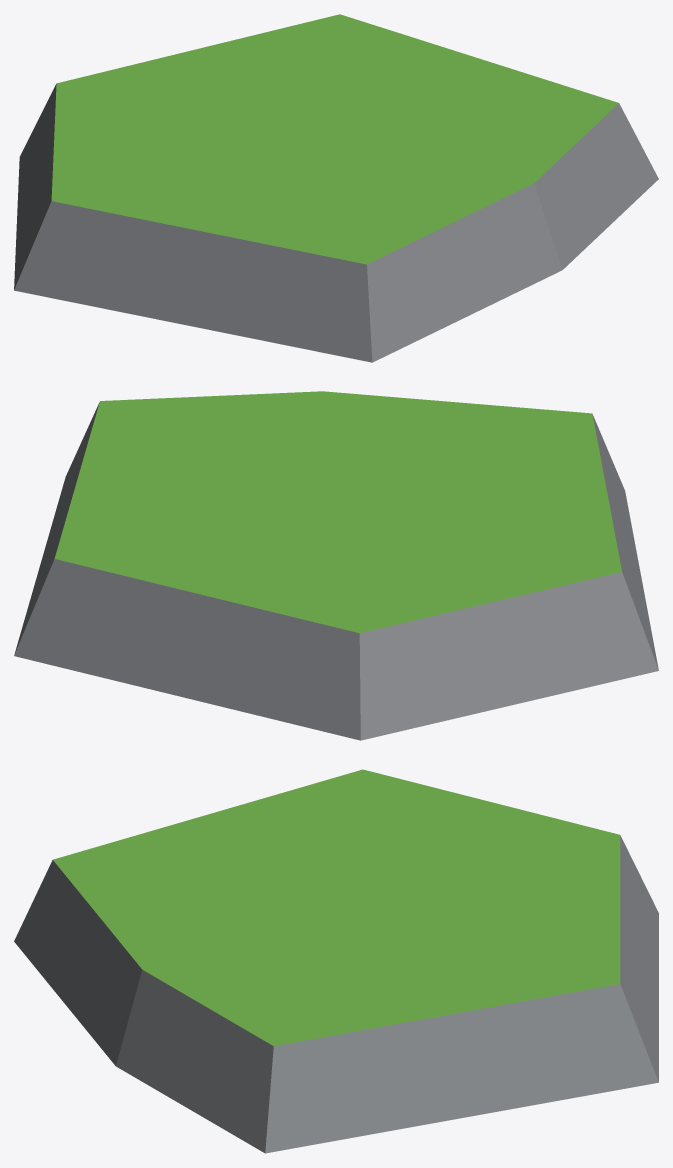
The model's file is rock_smallFlatA.glb.
3 renders of one model, top to bottom at view 1: azimuth 30°, elevation 25°; view 2: azimuth 150°, elevation 25°; view 3: azimuth 270°, elevation 25°, orthographic. The views are drawn at different scales.
Visible parts, largest first — view 1: rock_smallFlatA; view 2: rock_smallFlatA; view 3: rock_smallFlatA.
Part boxes in pixels (x1,y1,x2,y2): rock_smallFlatA: (14, 14, 658, 362); rock_smallFlatA: (14, 391, 658, 740); rock_smallFlatA: (14, 769, 658, 1153).
Size of the model in its own units: 0.4958 by 0.0649 by 0.4296.
